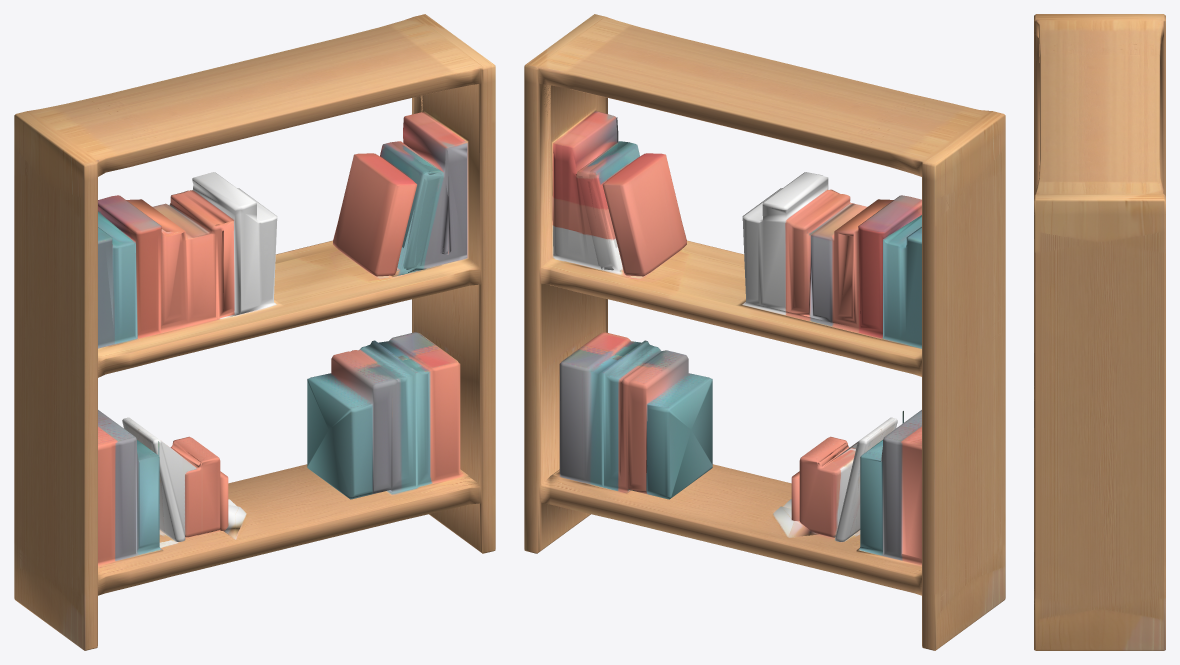
File: Meshy_AI_A_stylized_low_poly_b_0427232837_texture.fbx
The picture shows the model from 3 angles, left to right: view 1: azimuth 30°, elevation 25°; view 2: azimuth 150°, elevation 25°; view 3: azimuth 270°, elevation 25°; orthographic projection. The views are drawn at different scales.
Visible parts, largest first — view 1: Mesh_0; view 2: Mesh_0; view 3: Mesh_0.
Boxes of the visible parts, x1,y1,x2,y2 form: Mesh_0: [14, 14, 495, 650]; Mesh_0: [524, 14, 1005, 650]; Mesh_0: [1034, 14, 1165, 650].
Size of the model in its own units: 169 by 191 by 50.49.
Materials: 1 (1 with a texture image).
